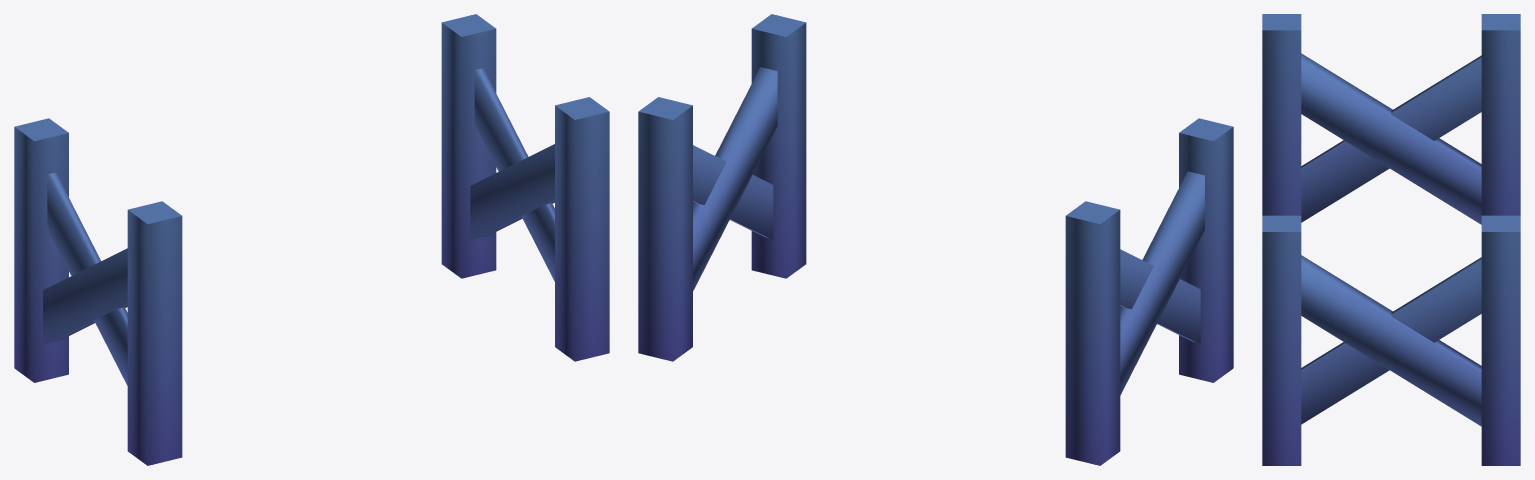
The model's file is supports-wide-diagonal.glb.
3 renders of one model, left to right at view 1: azimuth 30°, elevation 25°; view 2: azimuth 150°, elevation 25°; view 3: azimuth 270°, elevation 25°, orthographic. The views are drawn at different scales.
Visible parts, largest first — view 1: supports-wide-diagonal; view 2: supports-wide-diagonal; view 3: supports-wide-diagonal.
Part boxes in pixels (<box>): supports-wide-diagonal: <box>14,14,609,465</box>; supports-wide-diagonal: <box>638,14,1233,465</box>; supports-wide-diagonal: <box>1262,14,1520,465</box>.
Bounding box in the file's own units: 2 × 1 × 1.
